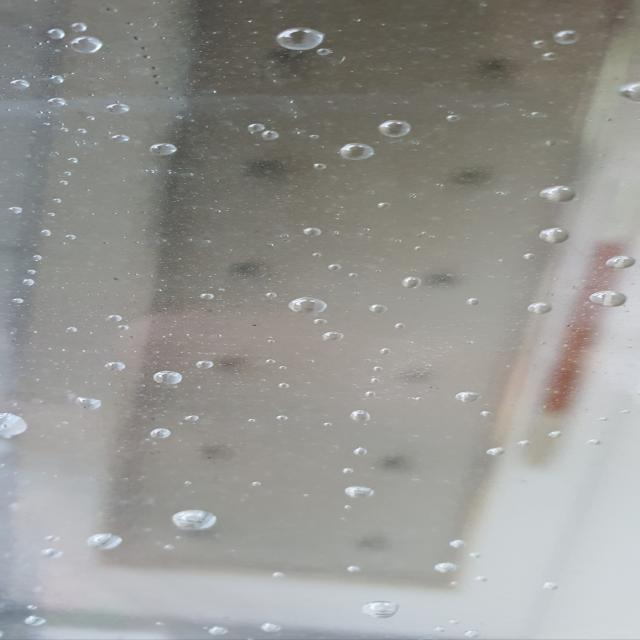raindrop: (264, 18, 342, 58), (158, 501, 234, 538), (328, 136, 396, 167), (579, 282, 640, 316), (74, 526, 140, 556), (359, 593, 412, 625), (138, 137, 196, 166), (524, 178, 586, 205), (142, 362, 192, 394), (277, 292, 340, 316), (365, 114, 426, 138), (610, 70, 640, 118), (58, 33, 114, 58), (98, 96, 146, 124), (0, 410, 38, 444), (523, 222, 576, 246), (593, 250, 640, 276), (336, 479, 380, 504), (522, 296, 565, 320)
